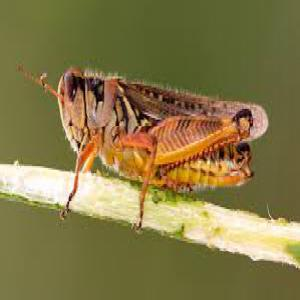locust: (34, 47, 276, 219)
